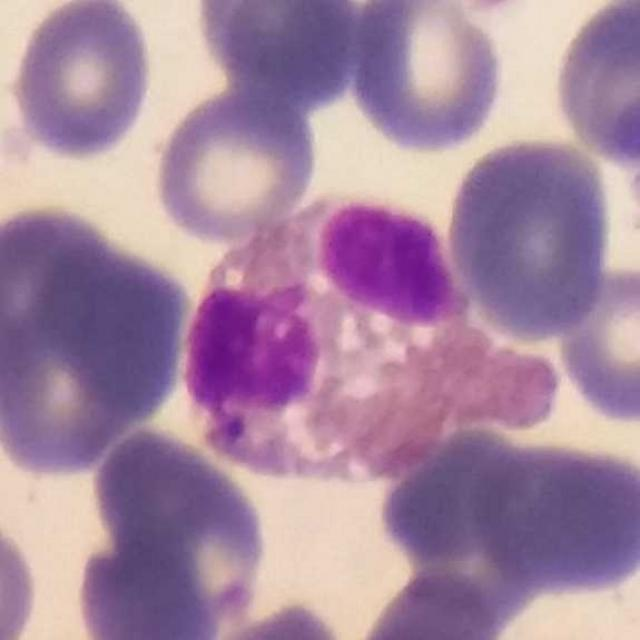Eosinophil: (186, 170, 554, 502)
RBC: (68, 420, 274, 639), (441, 132, 618, 344), (373, 428, 556, 614), (469, 429, 640, 608), (148, 84, 322, 247), (345, 1, 511, 157), (4, 0, 160, 165), (54, 245, 192, 411), (0, 304, 132, 474), (0, 199, 130, 370), (188, 0, 359, 104), (547, 1, 640, 170), (553, 260, 640, 428), (346, 562, 513, 640), (182, 597, 357, 640), (0, 502, 45, 640)
